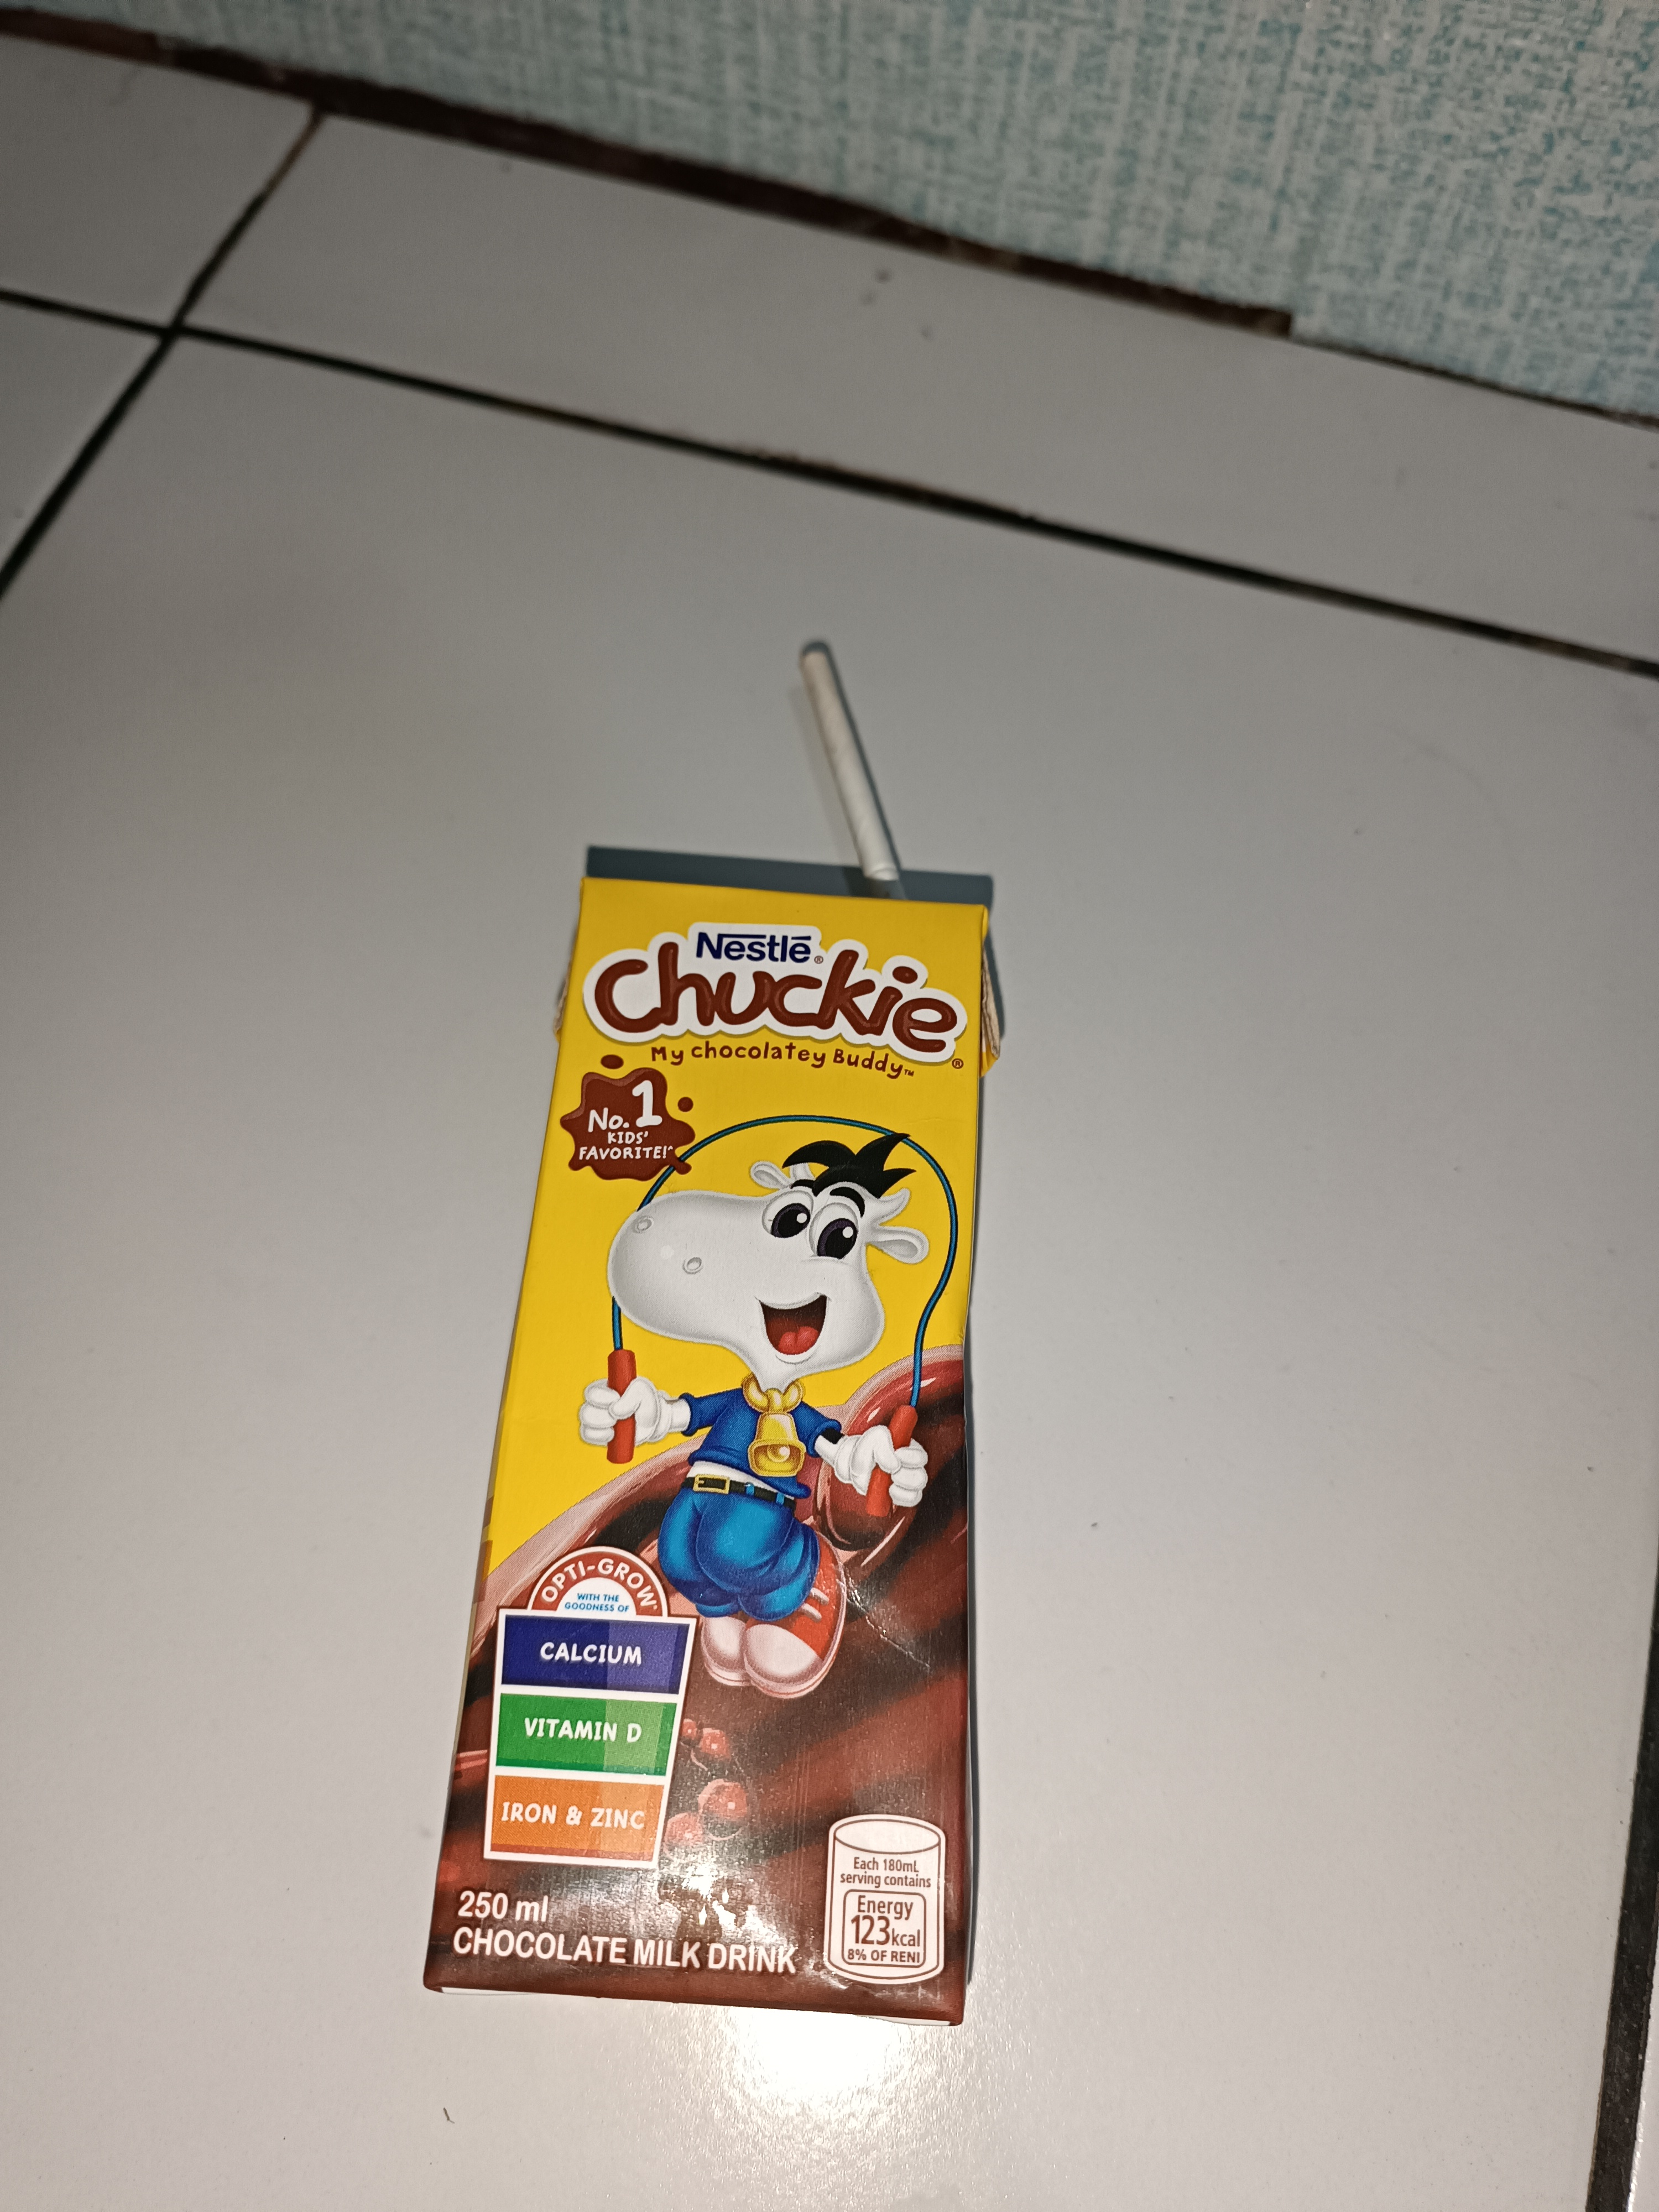Juice Box: (213, 634, 1047, 2017)
